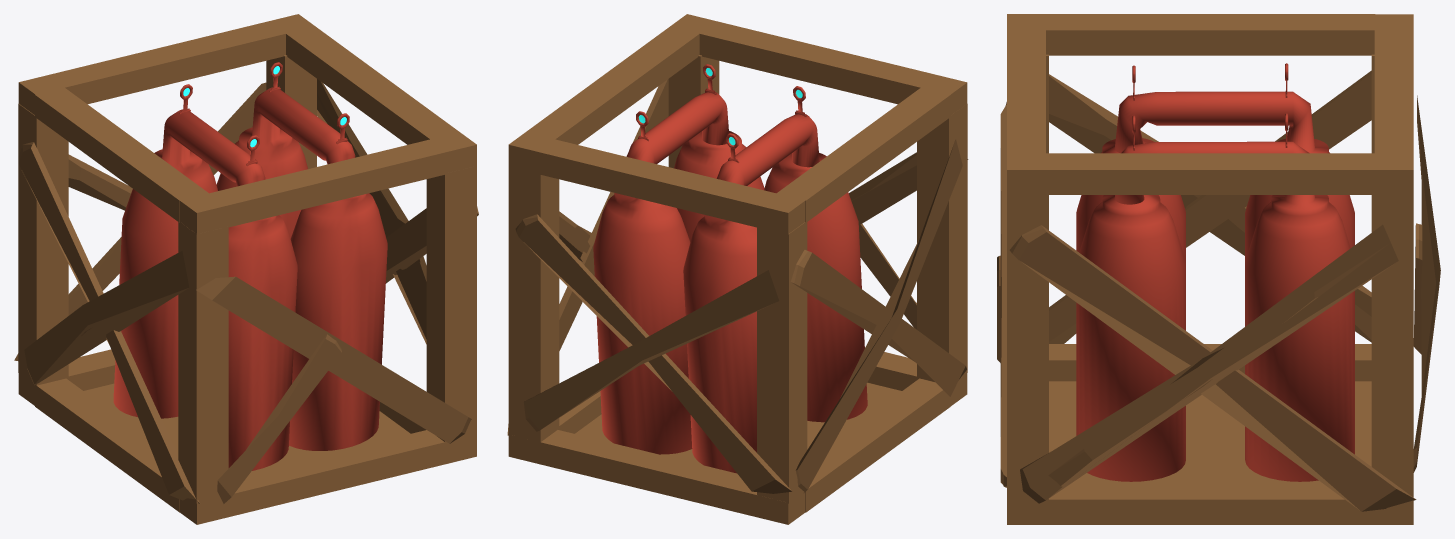
Rendered from machine4.fbx.
3 renders of one model, left to right at view 1: azimuth 30°, elevation 25°; view 2: azimuth 150°, elevation 25°; view 3: azimuth 270°, elevation 25°, orthographic. The views are drawn at different scales.
Visible parts, largest first — view 1: Cube.025; view 2: Cube.025; view 3: Cube.025.
Part boxes in pixels (x1,y1,x2,y2): Cube.025: (14,14,478,524); Cube.025: (507,14,968,524); Cube.025: (997,14,1440,524).
Bounding box in the file's own units: 1433 × 1358 × 1486.
